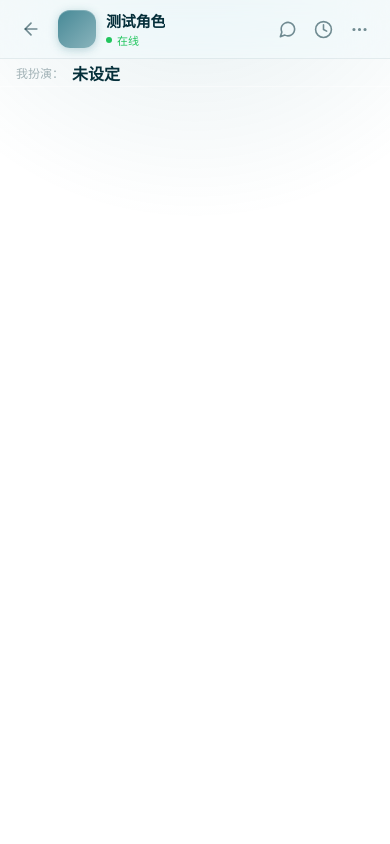
Test: 记忆面板：写失败显示在面板里 › 添加记忆失败：面板内出现 error-box，且不再 alert
Click the button named "更多". click: x=359, y=29
box: x1=342 y1=12 x2=376 y2=46
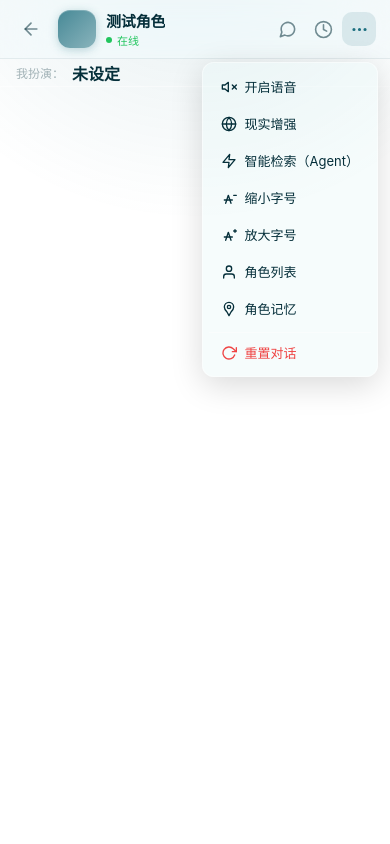
Click the button with class "chat-more-item" showing "角色记忆". click: x=290, y=308
box: x1=208 y1=291 x2=371 y2=326
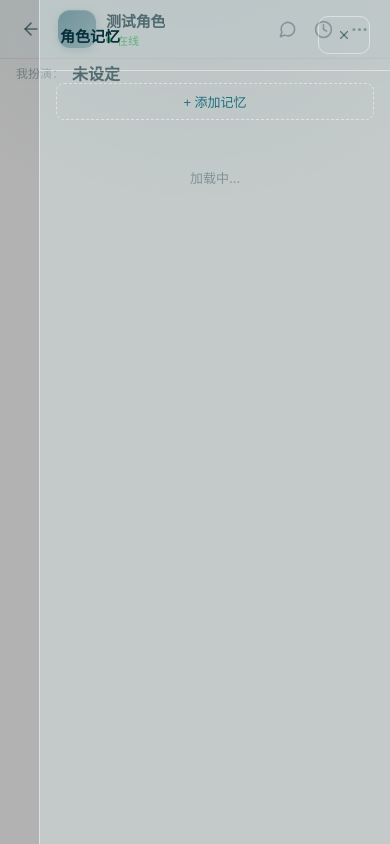
Check: the element with class "memory-panel" is shown
Click the button with class "memory-add-trigger". click: x=215, y=102
box: x1=56 y1=83 x2=374 y2=120
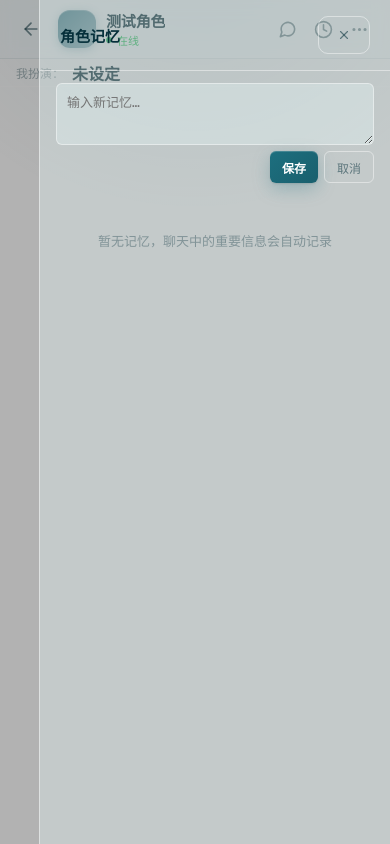
Type "新记忆" into the text box with class "memory-add-input". click: x=215, y=114
box: x1=56 y1=83 x2=374 y2=145
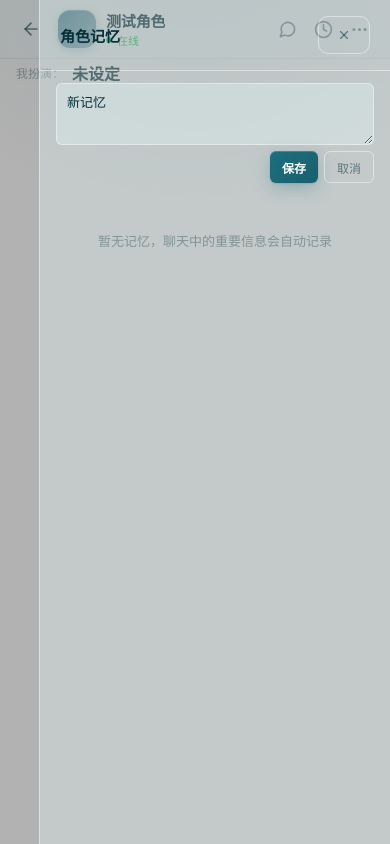
Click the button "保存". click: x=294, y=167
box: x1=270 y1=151 x2=318 y2=183
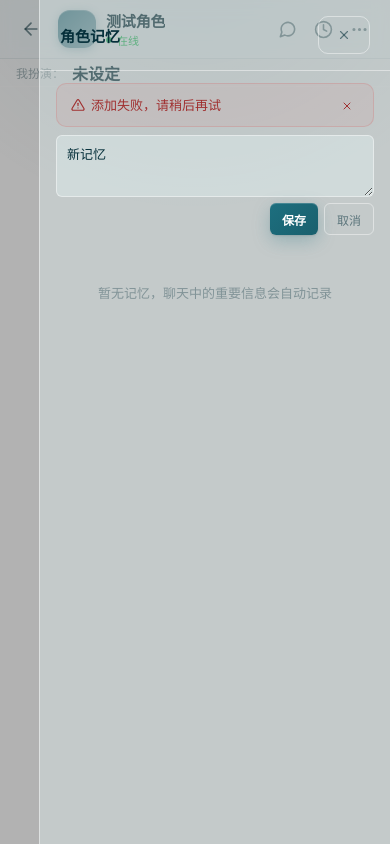
Check: the element with class "error-box" is shown, box x1=56 y1=83 x2=374 y2=127
Check: the element with class "error-box" reads "添加失败，请稍后再试", box x1=91 y1=97 x2=221 y2=113
